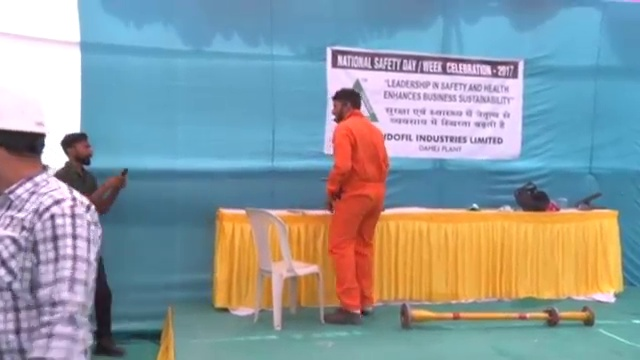helmet: (1, 82, 49, 141)
helmet_off: (330, 85, 363, 126), (59, 131, 94, 168)
helmet_on: (1, 83, 49, 189)
person: (1, 85, 103, 354), (322, 85, 389, 325), (52, 132, 130, 220)
